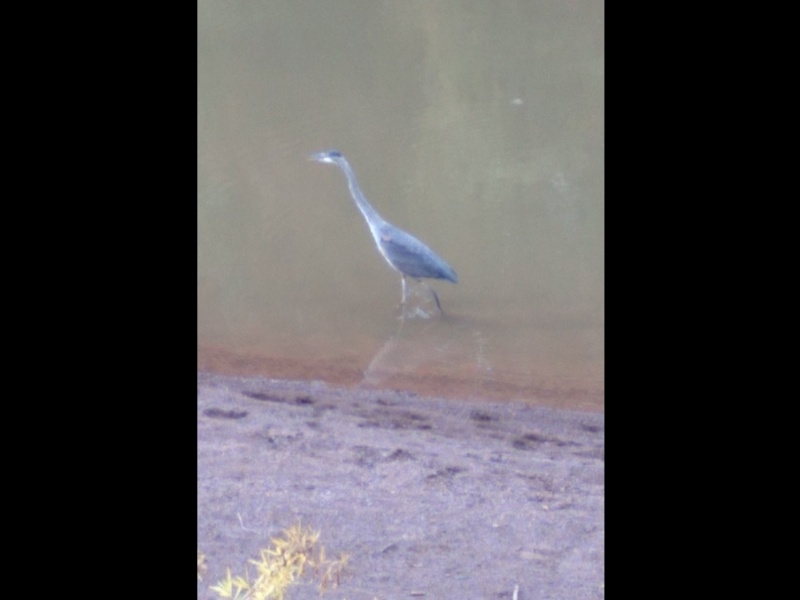heron: (305, 146, 461, 323)
